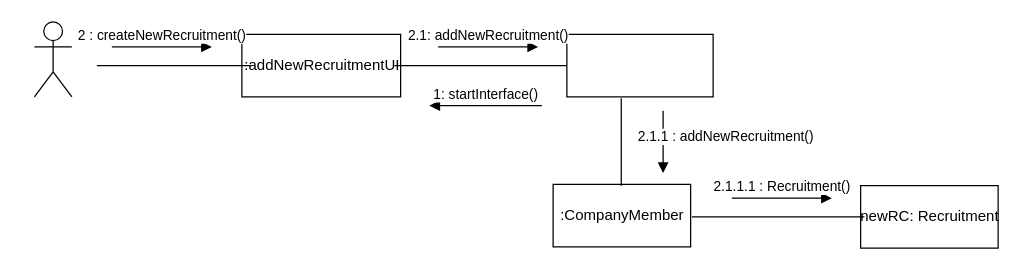
Some shapes in this 1020 by 270 pixel diagram are drawn without their labels. The shapes that lost their labels are listed below. From the top down, each one's centre as x and y in pixels, then its label:
the point at 52,59: Company Member
the point at 639,65: :addNewRecruitment
